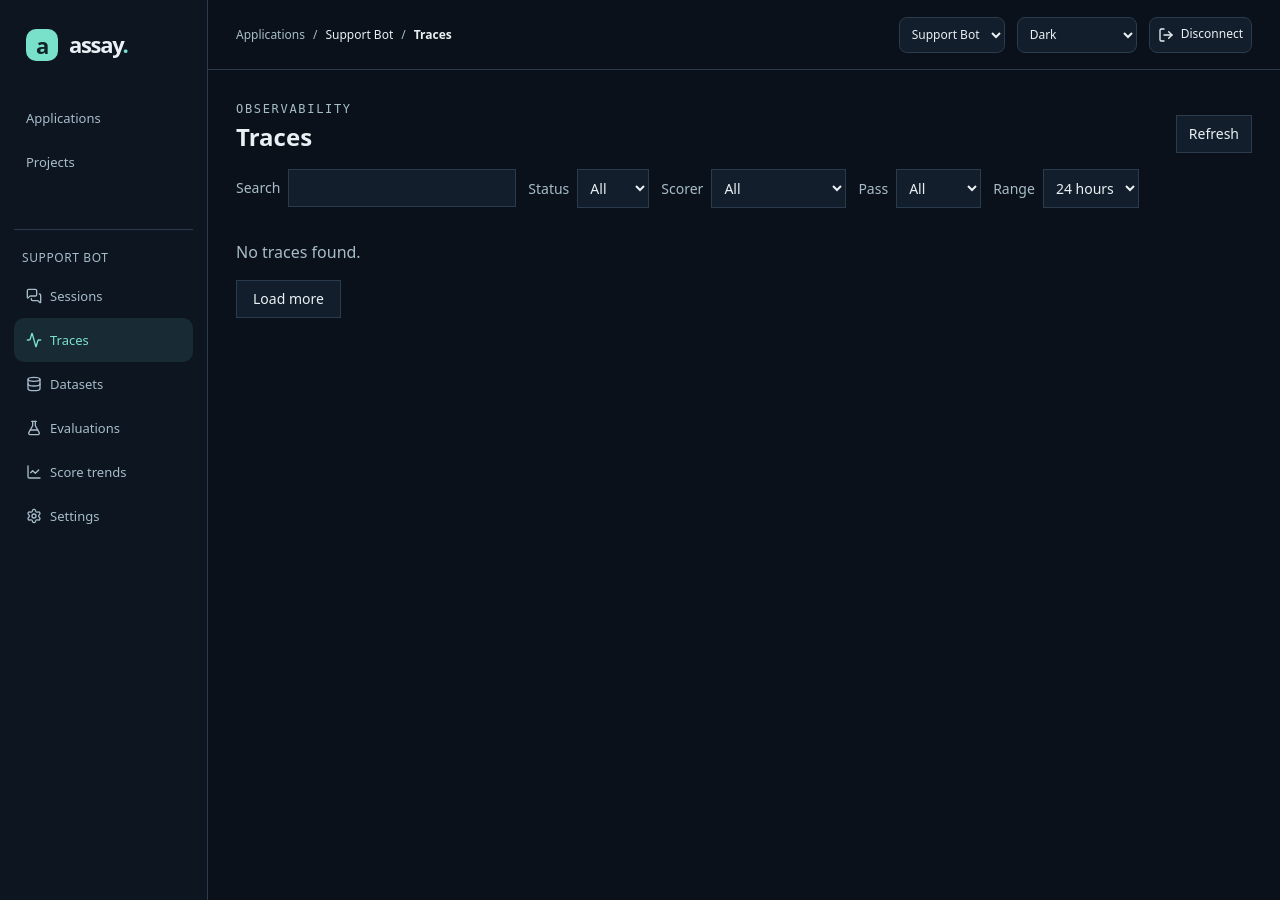
Scenario: switches applications from the header switcher
Step 1. Select "Review Bot" in the dropdown named "Application" → {"x": 952, "y": 34}, box [899, 16, 1005, 52]
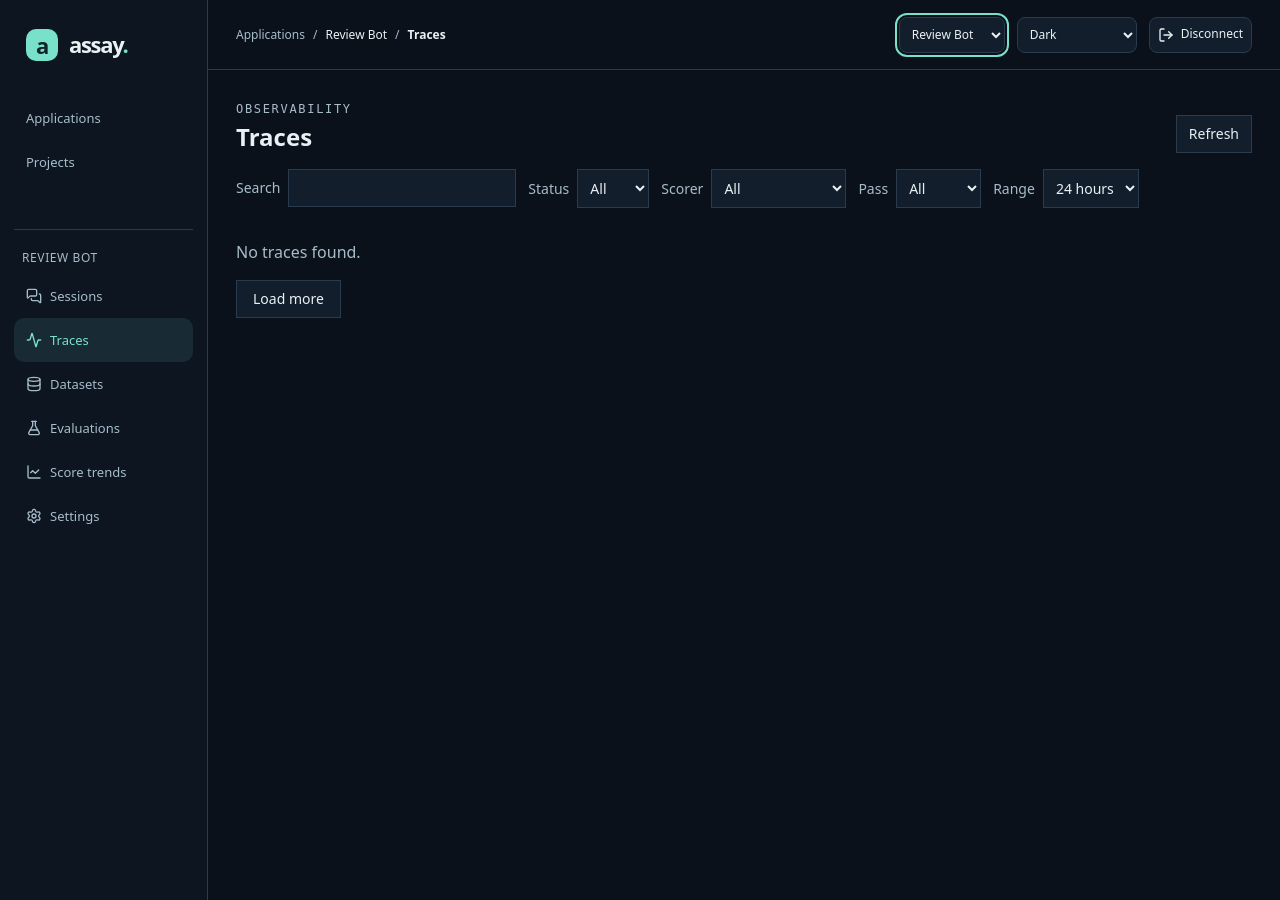
expect the link "Review Bot" is shown: met, box [325, 26, 387, 42]
